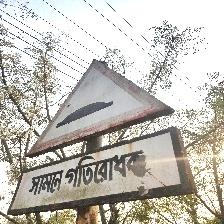Speed-breaker: (10, 60, 194, 214)
